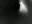person: (19, 1, 29, 17)
